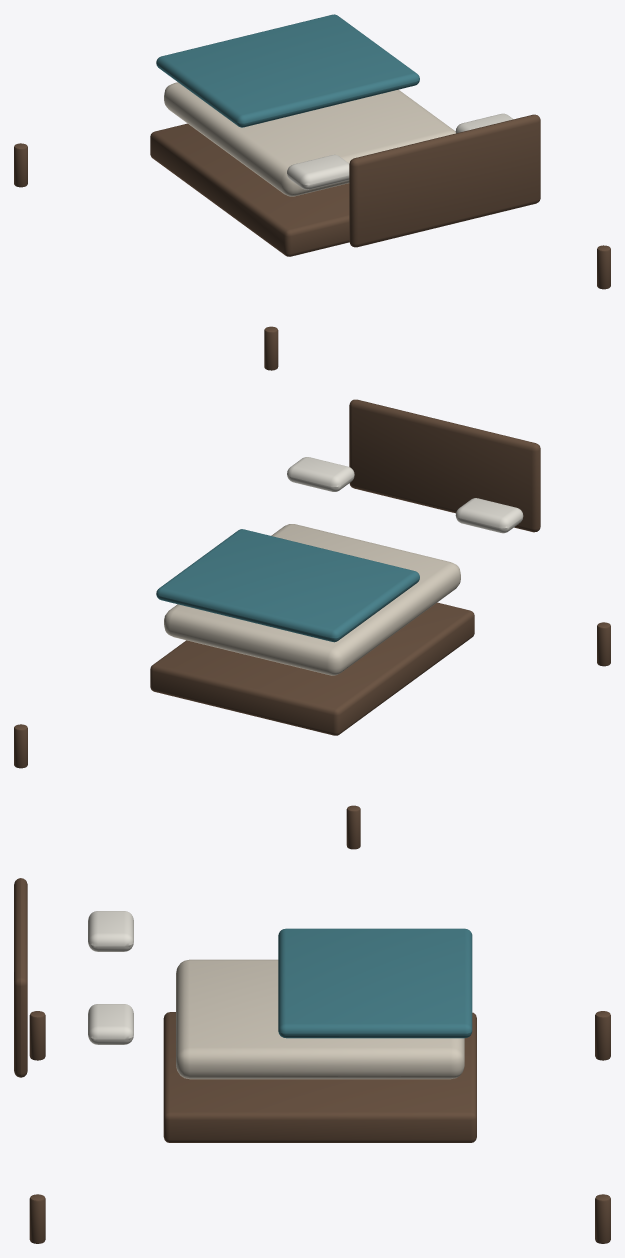
File: bed_frame.glb
The picture shows the model from 3 angles, top to bottom: view 1: azimuth 30°, elevation 25°; view 2: azimuth 150°, elevation 25°; view 3: azimuth 270°, elevation 25°; orthographic projection. The views are drawn at different scales.
Visible parts, largest first — view 1: headboard, duvet, mattress, frame, pillow, leg, leg.001, leg.002, pillow.001; view 2: frame, duvet, headboard, mattress, pillow, pillow.001, leg.001, leg, leg.003; view 3: frame, duvet, mattress, headboard, pillow, pillow.001, leg.002, leg, leg.003, leg.001.
Part boxes in pixels (bbox=[...]): headboard: bbox=[349, 114, 540, 247]; duvet: bbox=[156, 14, 419, 127]; mattress: bbox=[164, 82, 455, 196]; frame: bbox=[150, 123, 349, 256]; pillow: bbox=[287, 154, 349, 189]; leg: bbox=[264, 326, 278, 370]; leg.001: bbox=[14, 143, 27, 187]; leg.002: bbox=[597, 245, 610, 289]; pillow.001: bbox=[455, 113, 513, 133]; frame: bbox=[150, 602, 474, 735]; duvet: bbox=[156, 529, 419, 642]; headboard: bbox=[349, 399, 540, 532]; mattress: bbox=[164, 524, 460, 675]; pillow: bbox=[455, 498, 523, 533]; pillow.001: bbox=[287, 457, 354, 491]; leg.001: bbox=[346, 805, 360, 849]; leg: bbox=[597, 622, 610, 666]; leg.003: bbox=[14, 724, 27, 768]; frame: bbox=[163, 1012, 476, 1142]; duvet: bbox=[278, 928, 472, 1038]; mattress: bbox=[176, 959, 464, 1079]; headboard: bbox=[14, 878, 27, 1077]; pillow: bbox=[88, 911, 133, 951]; pillow.001: bbox=[88, 1004, 133, 1044]; leg.002: bbox=[29, 1194, 45, 1243]; leg: bbox=[29, 1011, 45, 1060]; leg.003: bbox=[595, 1194, 610, 1243]; leg.001: bbox=[595, 1011, 610, 1060].
Size of the model in its own units: 1.47 by 0.8 by 1.95.
